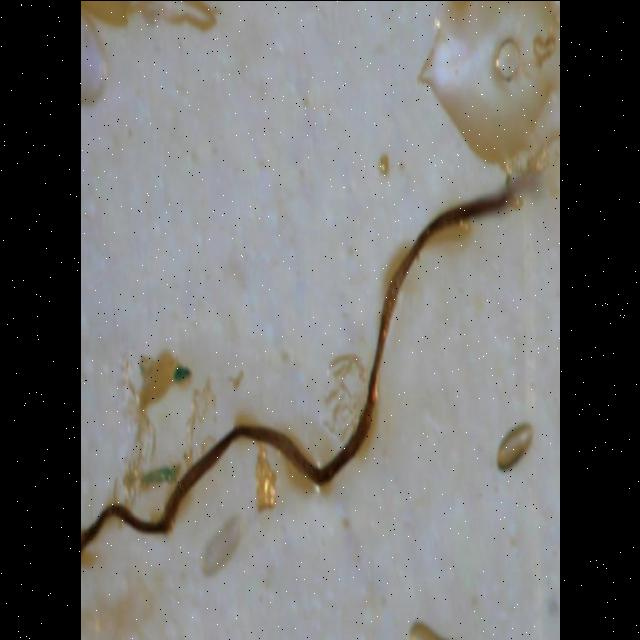Fibre: (80, 140, 530, 568)
